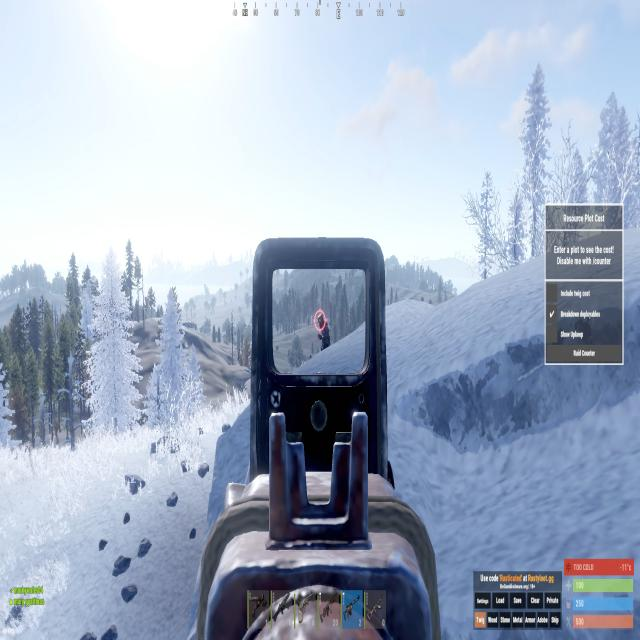Player: (318, 312, 332, 352)
